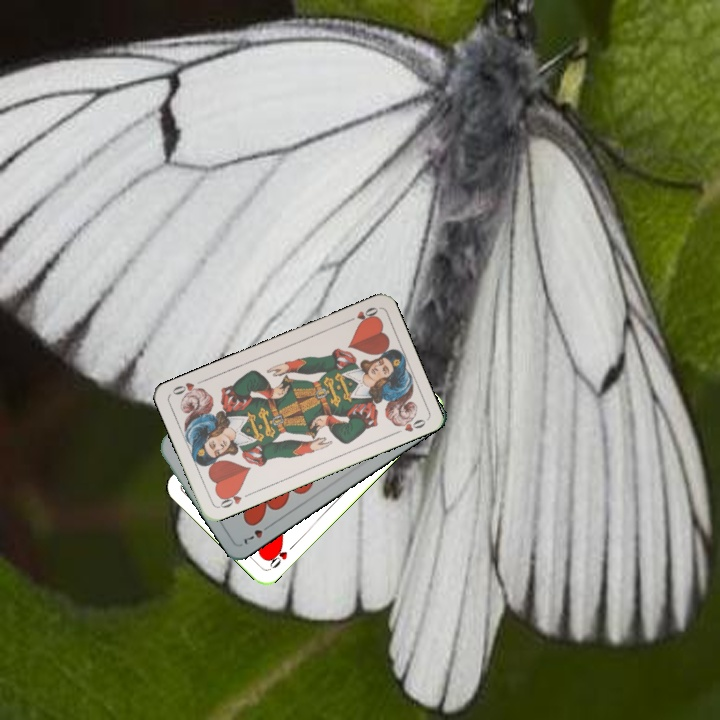H7: (240, 519, 275, 547)
HO: (263, 540, 297, 572), (215, 486, 254, 511), (342, 303, 380, 326)
